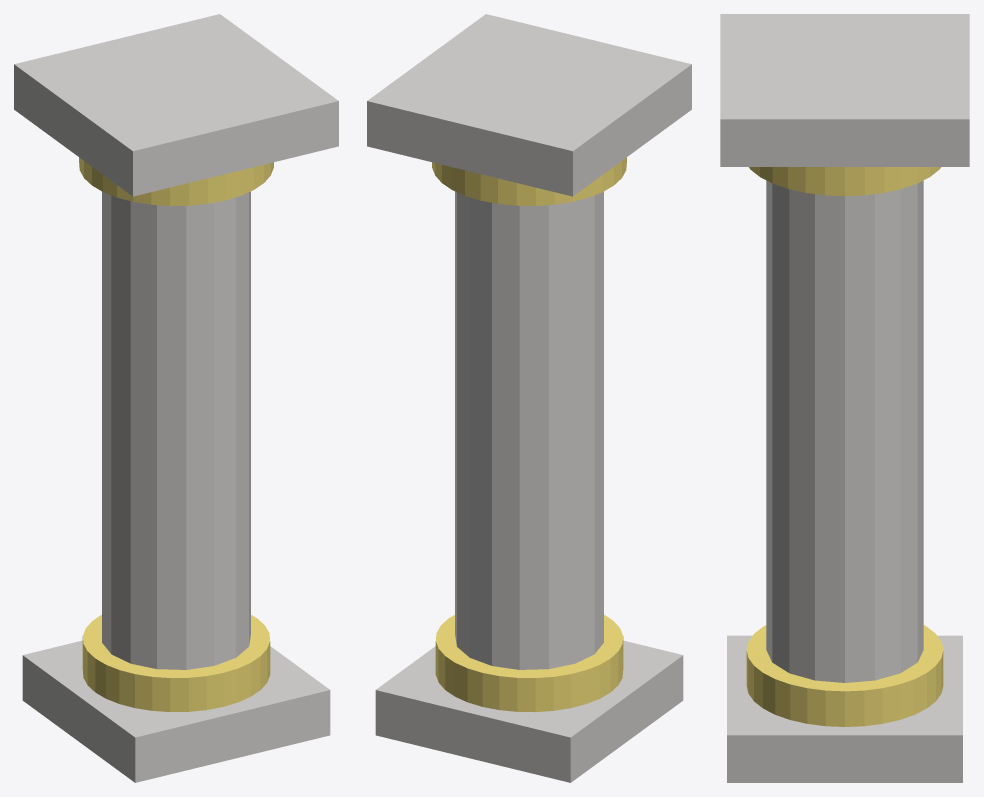
The model's file is temple_column.glb.
3 views of the same model, side by side, from view 1: azimuth 30°, elevation 25°; view 2: azimuth 150°, elevation 25°; view 3: azimuth 270°, elevation 25° (orthographic). The views are drawn at different scales.
Parts seen in each view (by area): view 1: Cube.001; view 2: Cube.001; view 3: Cube.001.
Part boxes in pixels (left/top/right/bottom): Cube.001: left=14, top=14, right=338, bottom=782; Cube.001: left=367, top=14, right=691, bottom=782; Cube.001: left=720, top=14, right=969, bottom=782.
Size of the model in its own units: 1.9 by 5.6 by 1.9.
